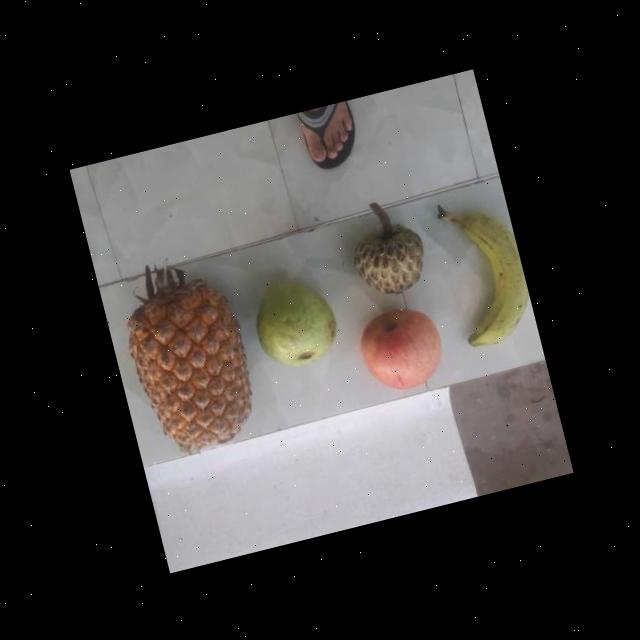Sakya fruit: (341, 208, 432, 302)
apple: (349, 297, 453, 398)
banana: (433, 196, 537, 349)
guava: (244, 272, 342, 373)
pineapple: (116, 268, 262, 461)
